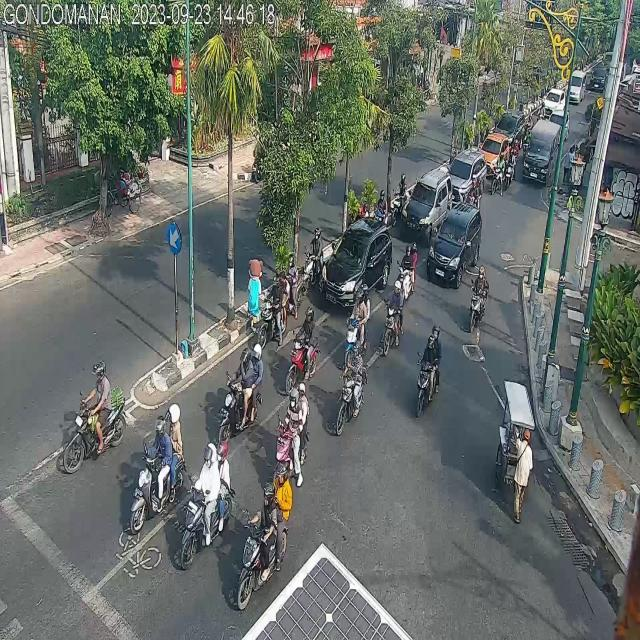car: (324, 223, 390, 307), (427, 202, 487, 278), (404, 171, 454, 235), (521, 125, 562, 183)
motorcycle: (234, 470, 294, 614), (178, 426, 235, 560), (130, 398, 183, 534), (64, 364, 124, 470), (222, 342, 264, 448), (271, 388, 309, 494), (414, 324, 445, 417), (288, 307, 322, 389), (338, 336, 365, 436), (261, 269, 290, 349), (468, 263, 490, 334), (382, 284, 404, 352)
